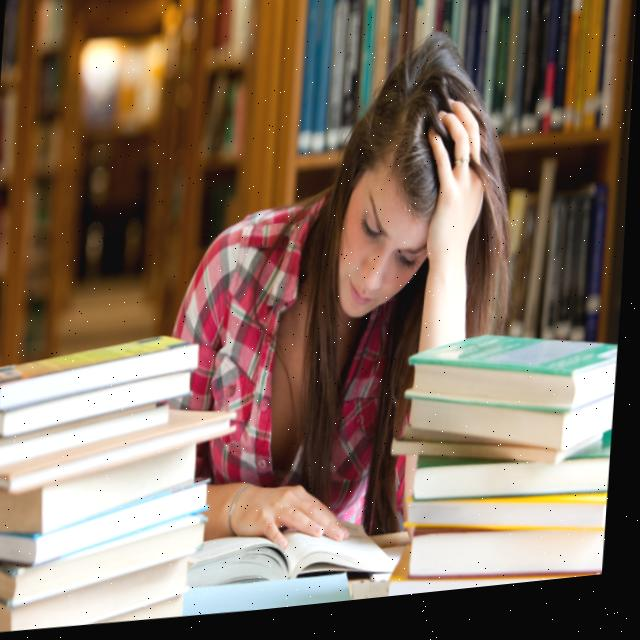studying-person: (0, 23, 637, 640)
